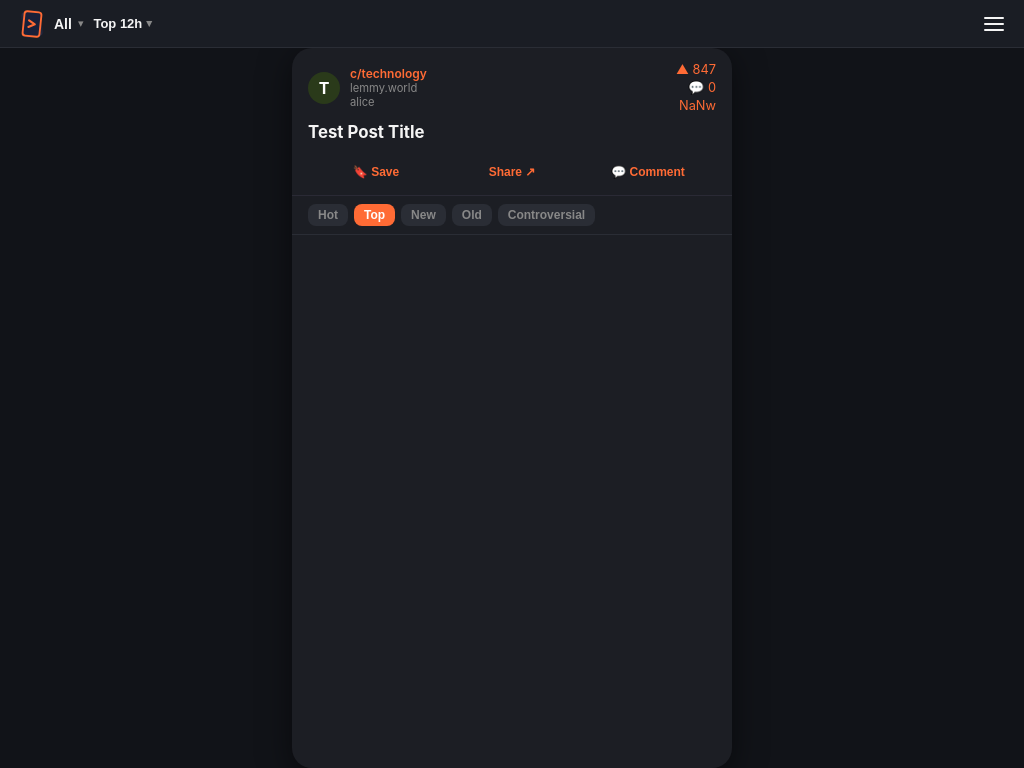
FeedStack menu drawer › closes the drawer when a tile is clicked
Check: the text "Test Post Title" is shown, box [308, 122, 424, 142]
Click the button named "menu": {"x": 994, "y": 24} [980, 12, 1008, 34]
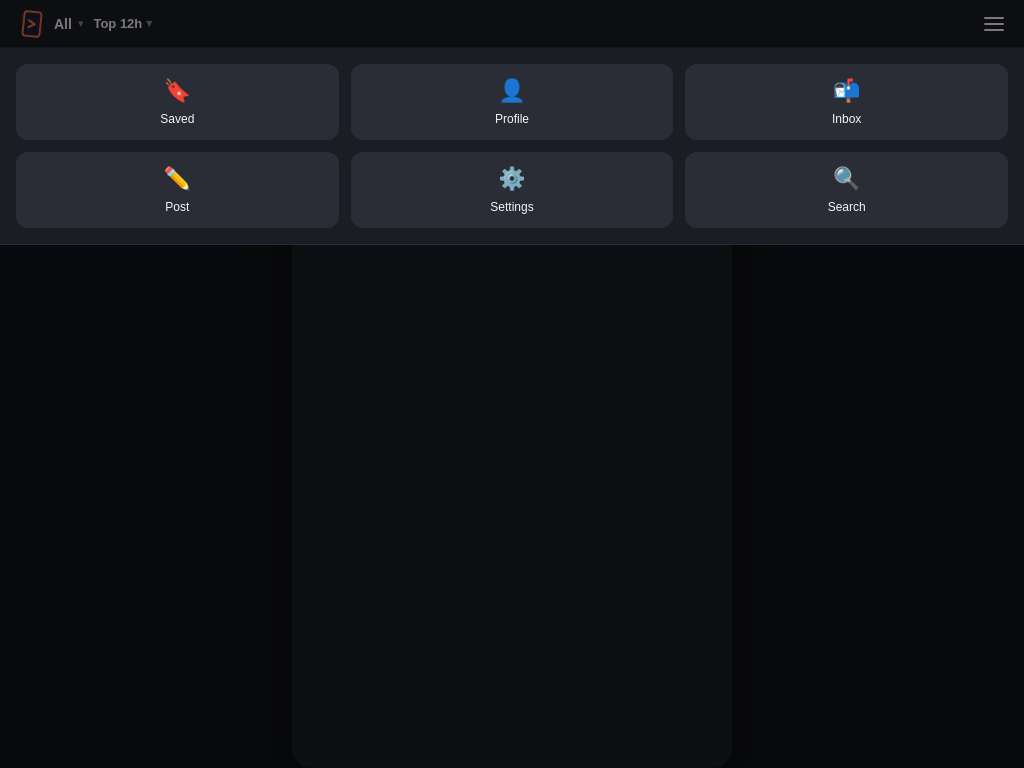
Click the button "🔖 Saved": {"x": 177, "y": 102} [16, 64, 339, 140]
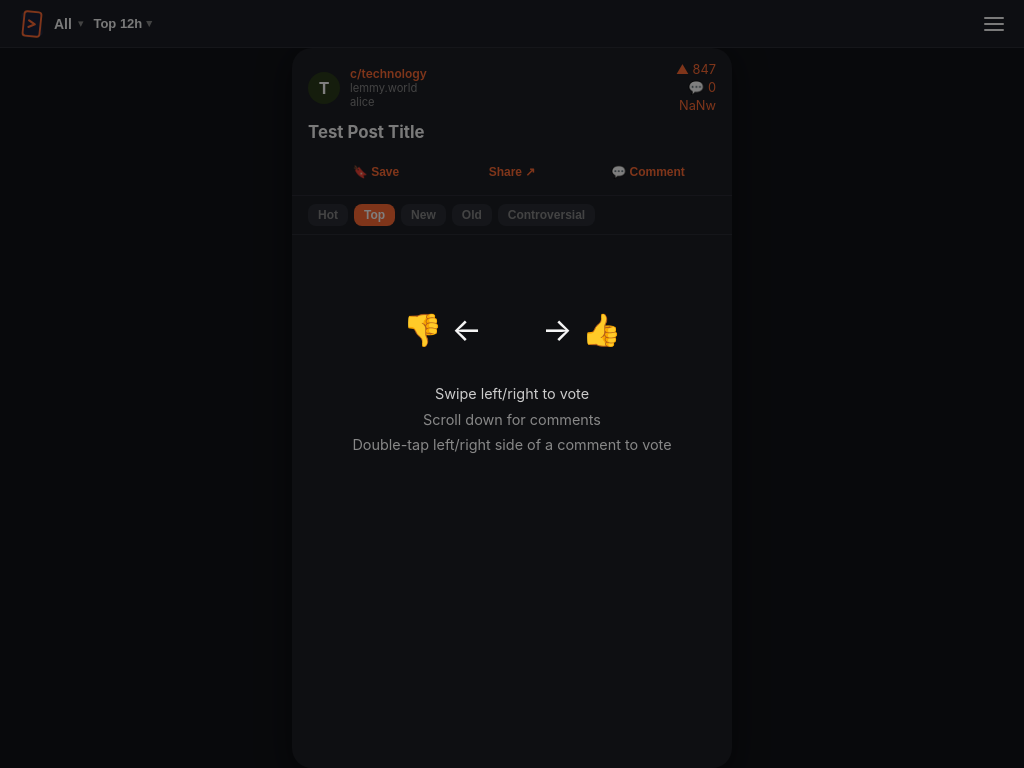
Check: the button "Saved" is gone
